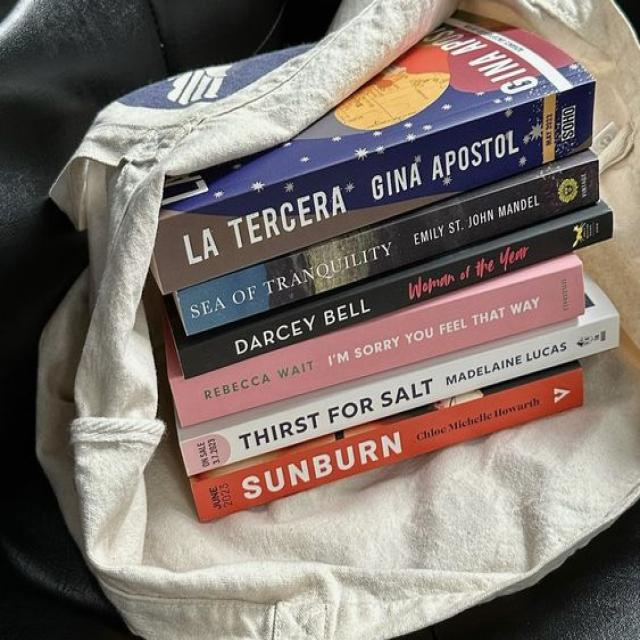book: (154, 80, 595, 295), (178, 278, 616, 473), (166, 202, 612, 377), (175, 152, 598, 334), (172, 255, 583, 425), (191, 364, 581, 520)
